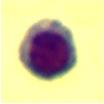lymphocyte: (17, 17, 79, 83)
